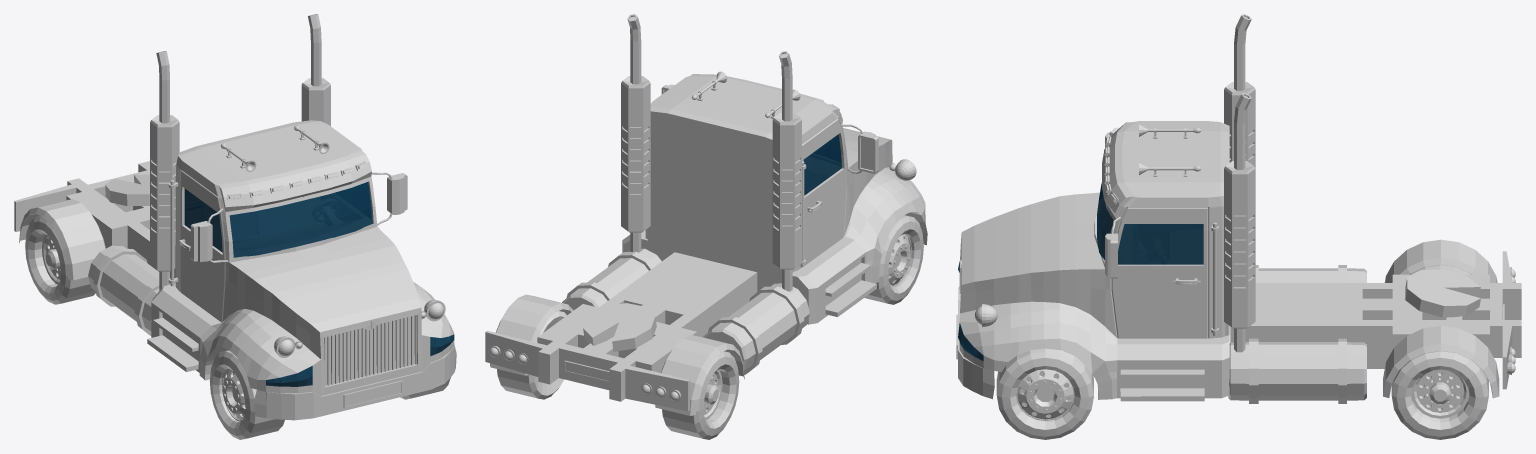
File: truck_seperate_wheels.fbx
The picture shows the model from 3 angles, left to right: view 1: azimuth 30°, elevation 25°; view 2: azimuth 150°, elevation 25°; view 3: azimuth 270°, elevation 25°; orthographic projection. The views are drawn at different scales.
Visible parts, largest first — view 1: truck_seperate_wheels, truck_glass, truck_wheel_fl, truck_wheel_bl; view 2: truck_seperate_wheels, truck_wheel_bl, truck_wheel_fl, truck_wheel_br, truck_glass; view 3: truck_seperate_wheels, truck_wheel_fr, truck_wheel_br, truck_glass.
Boxes of the visible parts, left/top/right/bottom form: truck_seperate_wheels: left=14, top=14, right=456, bottom=420; truck_glass: left=184, top=182, right=454, bottom=386; truck_wheel_fl: left=209, top=350, right=284, bottom=439; truck_wheel_bl: left=25, top=216, right=95, bottom=304; truck_seperate_wheels: left=485, top=14, right=927, bottom=415; truck_wheel_bl: left=662, top=351, right=739, bottom=439; truck_wheel_fl: left=864, top=215, right=923, bottom=304; truck_wheel_br: left=497, top=311, right=566, bottom=399; truck_glass: left=803, top=134, right=841, bottom=195; truck_seperate_wheels: left=956, top=14, right=1521, bottom=403; truck_wheel_fr: left=996, top=348, right=1093, bottom=439; truck_wheel_br: left=1391, top=351, right=1488, bottom=439; truck_glass: left=958, top=183, right=1203, bottom=361.
Size of the model in its own units: 474 by 644 by 989.
